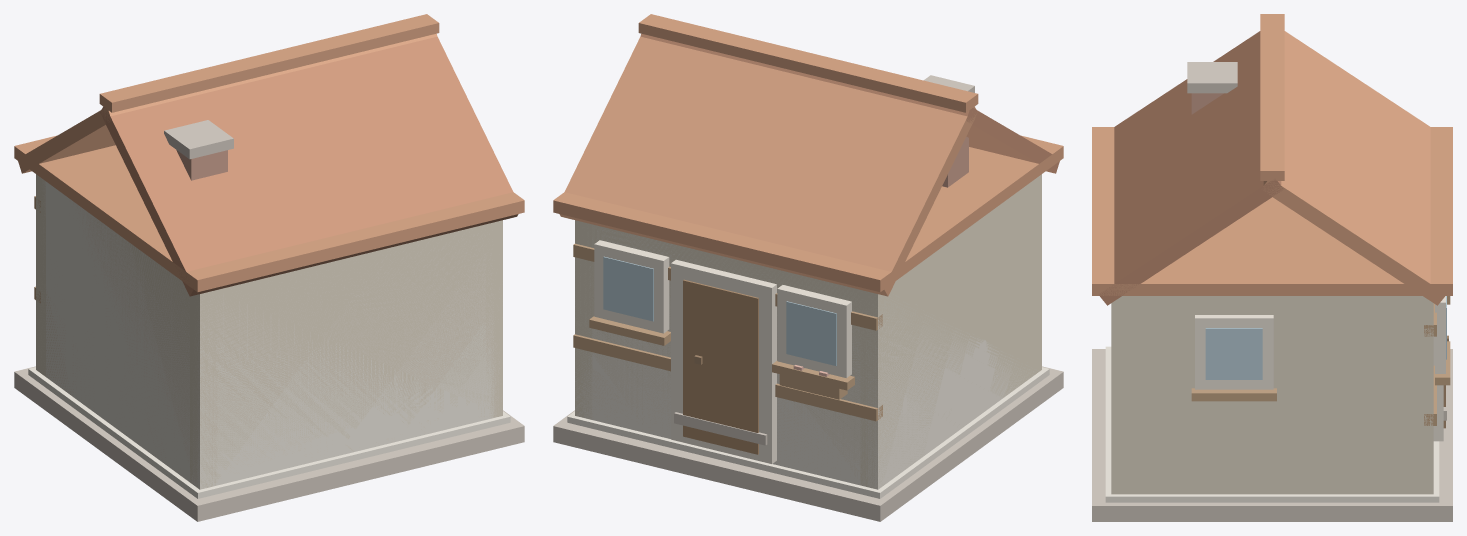
File: vn_building_cozy_house.glb
The picture shows the model from 3 angles, left to right: view 1: azimuth 30°, elevation 25°; view 2: azimuth 150°, elevation 25°; view 3: azimuth 270°, elevation 25°; orthographic projection.
Parts seen in each view (by area): view 1: walls_main, roof_slope_north, trim_corner_north, roof_eave_ring, foundation_stone, trim_corner_west, roof_ridge_cap, plinth_wall, roof_slope_south, trim_corner_east, trim_corner_south, chimney_cap (+1 smaller); view 2: roof_slope_south, walls_main, trim_corner_west, roof_eave_ring, trim_corner_south, foundation_stone, door_panel, roof_ridge_cap, door_frame, plinth_wall, roof_slope_north, window_front_R_frame (+11 smaller); view 3: trim_corner_east, roof_slope_south, roof_slope_north, roof_eave_ring, foundation_stone, plinth_wall, roof_ridge_cap, window_side_east_glass, window_side_east_frame, trim_corner_south, trim_corner_north, chimney_cap (+3 smaller).
Boxes of the visible parts, <box> form: walls_main: <box>36,181,501,489</box>; roof_slope_north: <box>100,36,518,296</box>; trim_corner_north: <box>190,223,499,488</box>; roof_eave_ring: <box>14,135,524,292</box>; foundation_stone: <box>14,366,524,521</box>; trim_corner_west: <box>46,203,217,488</box>; roof_ridge_cap: <box>99,14,439,112</box>; plinth_wall: <box>28,367,510,498</box>; roof_slope_south: <box>17,33,437,173</box>; trim_corner_east: <box>485,220,502,418</box>; trim_corner_south: <box>36,174,45,376</box>; chimney_cap: <box>164,120,233,159</box>; roof_slope_south: <box>559,36,977,296</box>; walls_main: <box>575,226,1038,489</box>; trim_corner_west: <box>860,175,1041,488</box>; roof_eave_ring: <box>553,135,1063,292</box>; trim_corner_south: <box>575,222,887,486</box>; foundation_stone: <box>553,366,1063,521</box>; door_panel: <box>683,279,758,454</box>; roof_ridge_cap: <box>638,14,978,112</box>; door_frame: <box>671,259,776,463</box>; plinth_wall: <box>567,367,1049,498</box>; roof_slope_north: <box>640,33,1059,173</box>; window_front_R_frame: <box>594,240,669,333</box>; trim_corner_east: <box>1111,296,1433,494</box>; roof_slope_south: <box>1263,31,1445,305</box>; roof_slope_north: <box>1099,31,1283,305</box>; roof_eave_ring: <box>1092,127,1452,295</box>; foundation_stone: <box>1092,349,1452,521</box>; plinth_wall: <box>1105,346,1439,502</box>; roof_ridge_cap: <box>1260,14,1284,180</box>; window_side_east_glass: <box>1205,328,1262,379</box>; window_side_east_frame: <box>1195,315,1273,389</box>; trim_corner_south: <box>1414,296,1433,494</box>; trim_corner_north: <box>1111,296,1130,494</box>; chimney_cap: <box>1187,62,1237,93</box>.
Bounding box in the file's own units: 3.4 × 3.54 × 3.3.
